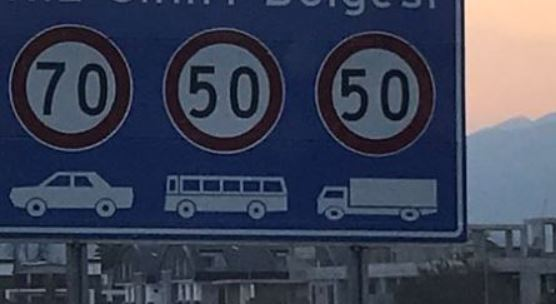50 Km Hiz Siniri: (315, 24, 437, 158), (161, 26, 283, 150)
70 Km Hiz Siniri: (12, 22, 136, 152)
